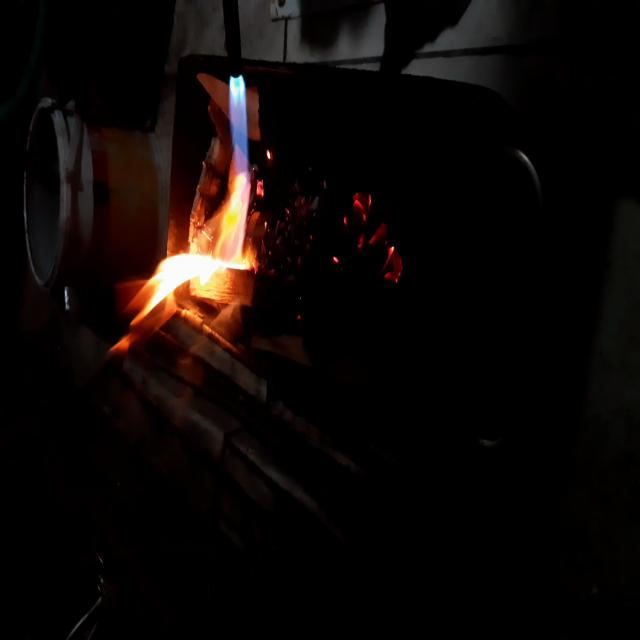Fire: (114, 72, 267, 387), (321, 154, 416, 306)
